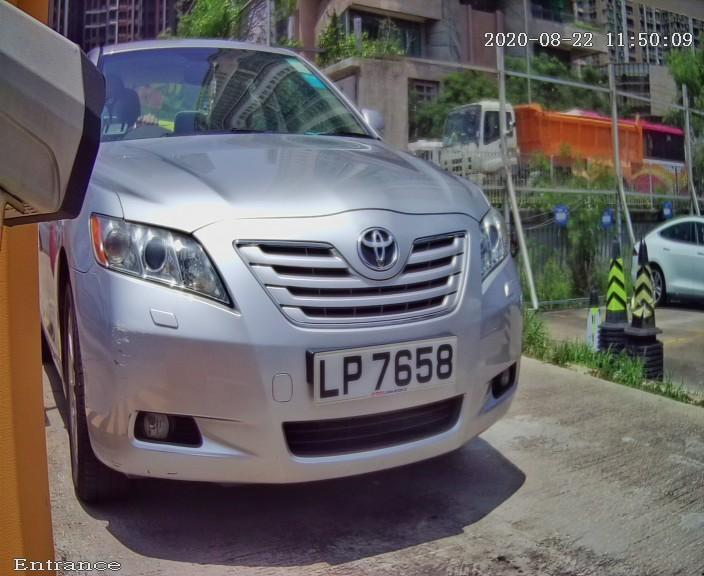License Plate: (286, 321, 460, 422)
